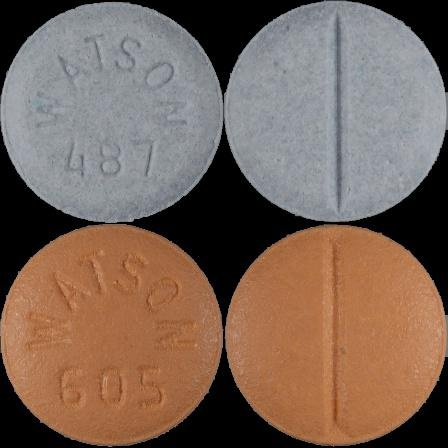0591-0487: (0, 0, 224, 224)
